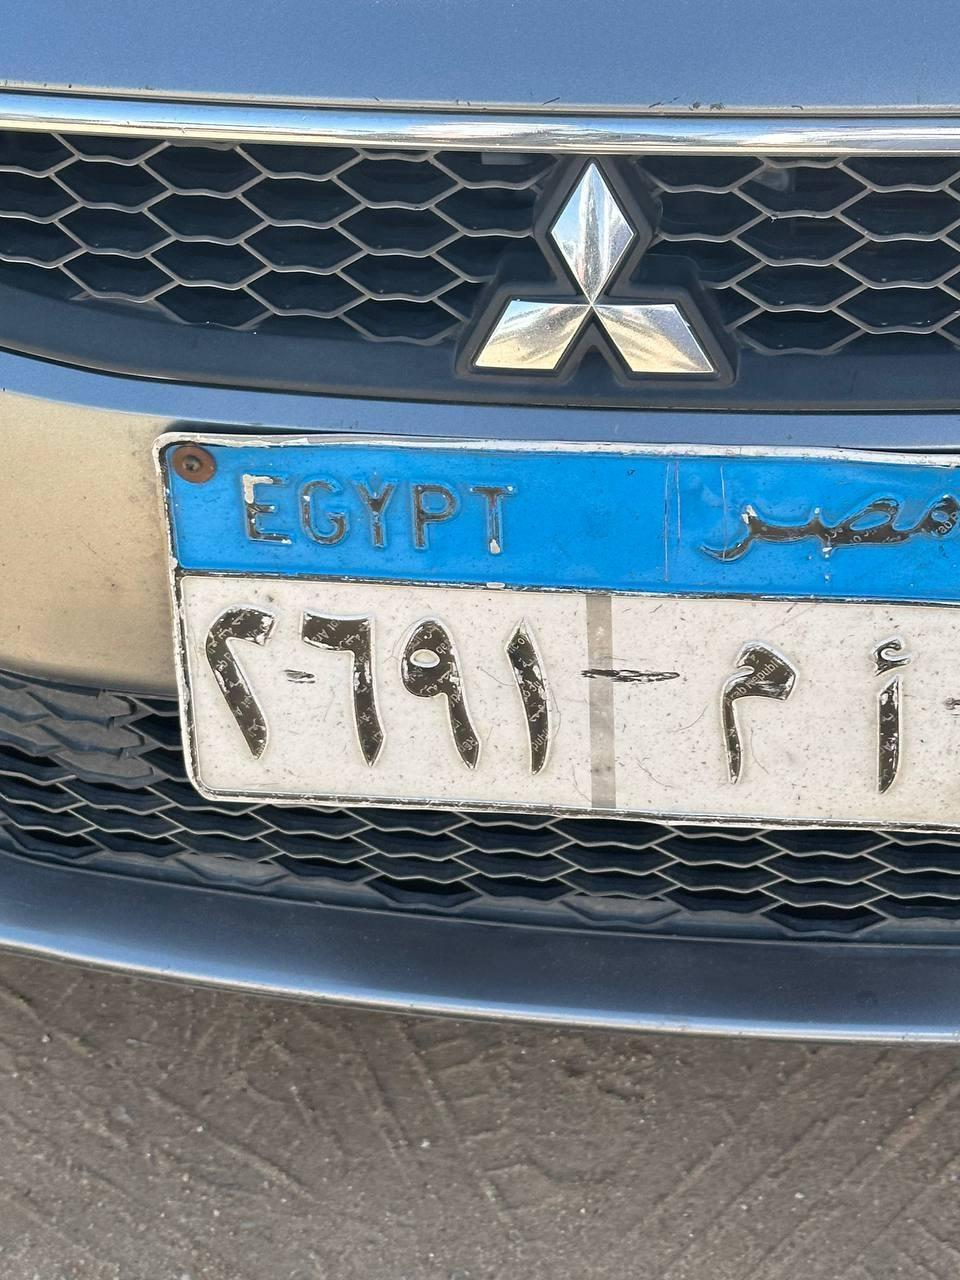1: (500, 615, 568, 774)
2: (198, 598, 284, 760)
6: (289, 613, 400, 761)
9: (398, 609, 488, 769)
License Plate: (161, 443, 960, 816)
Meem: (714, 636, 786, 789)
alef: (862, 627, 913, 792)
